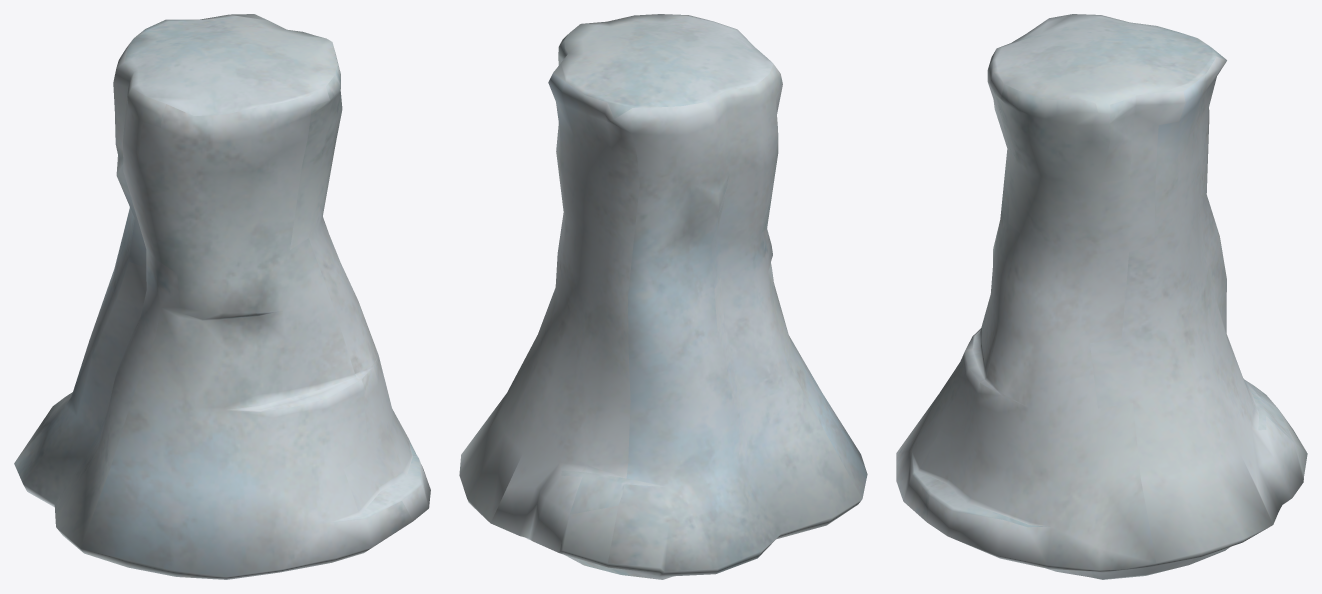
File: P_RockDesert_CliffB01.obj
The picture shows the model from 3 angles, left to right: view 1: azimuth 30°, elevation 25°; view 2: azimuth 150°, elevation 25°; view 3: azimuth 270°, elevation 25°; orthographic projection.
Bounding box in the file's own units: 41.76 × 52.35 × 42.36.
